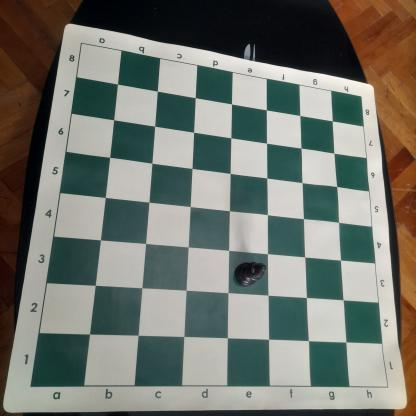black-bishop: (235, 260, 266, 288)
